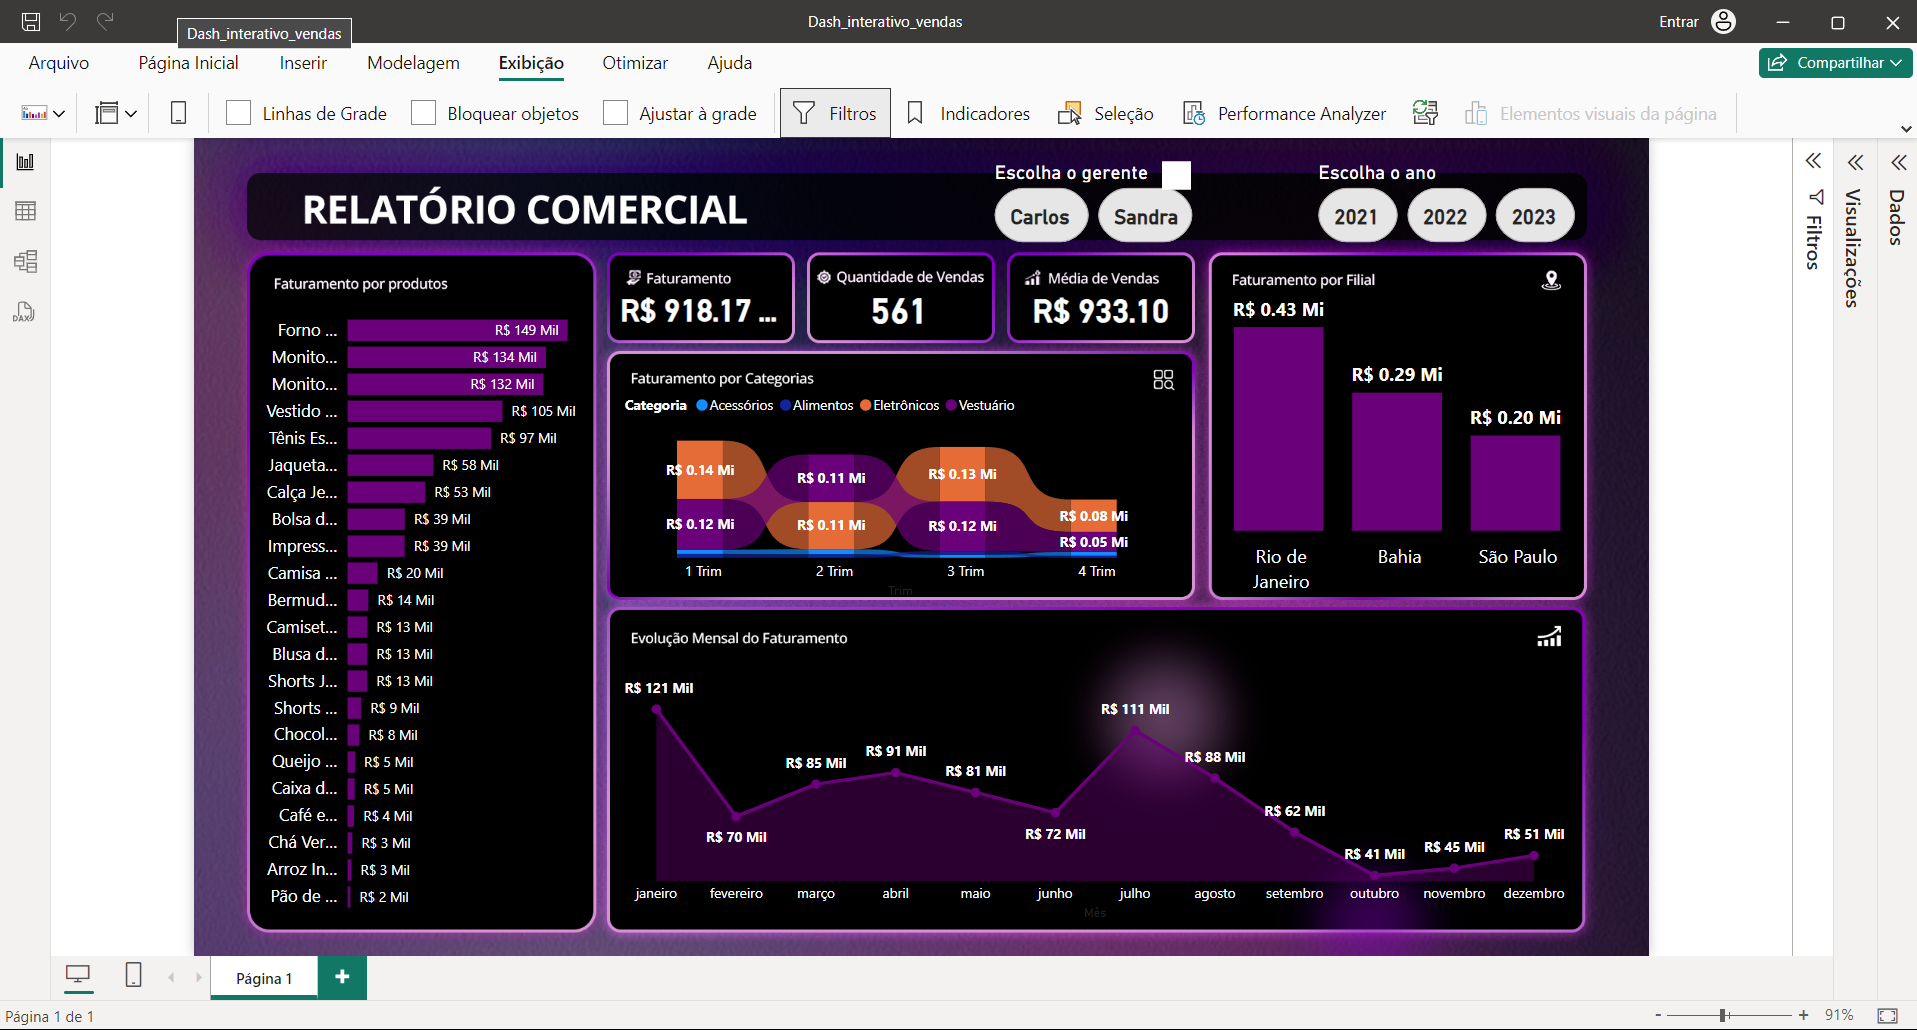

Layout of this report page (visuals, bound fields, positions):
{"tool":"powerbi","page":{"name":"Página 1","canvas":[1280,720],"ordinal":0},"visuals":[{"type":"card","fields":{"Values":["medidas.faturamento"]},"box":[364.3,122.9,160,54.3],"z":0},{"type":"card","fields":{"Values":["medidas.qtd_vendas"]},"box":[540,122.9,160,54.3],"z":1000},{"type":"card","fields":{"Values":["medidas.media_vendas"]},"box":[718.6,122.9,160,54.3],"z":2000},{"type":"columnChart","fields":{"Category":["vendas.Filial"],"Y":["medidas.faturamento"]},"box":[852.2,122.2,401.1,286.7],"z":3000},{"type":"ribbonChart","fields":{"Y":["medidas.faturamento"],"Series":["vendas.Categoria"],"Category":["Calendario.Trim"]},"box":[373.8,215,495,193.8],"z":4000},{"type":"areaChart","fields":{"Category":["Calendario.Date.Variation.Hierarquia de datas.Mês"],"Y":["medidas.faturamento"]},"box":[373.8,453.8,841.2,238.8],"z":5000},{"type":"clusteredBarChart","fields":{"Category":["vendas.Produto"],"Y":["medidas.faturamento"]},"box":[47.8,137.8,301.1,554.4],"z":6000},{"type":"advancedSlicerVisual","title":"Escolha o gerente","fields":{"Values":["vendas.Gerente"]},"box":[698.9,20,180,72.2],"z":7000},{"type":"advancedSlicerVisual","title":"Escolha o ano","fields":{"Values":["Calendario.Ano"]},"box":[983.8,20,231.2,72.5],"z":7001}]}

Visuals, with their boxes on the page's 1280x720 design canvas (x1, y1, x2, y2). These are canvas units, not pixel positions in the 1917x1030 screenshot, which may show the page scaled, cropped or inside an application window:
card - medidas.faturamento: [364, 123, 524, 177]
card - medidas.qtd_vendas: [540, 123, 700, 177]
card - medidas.media_vendas: [719, 123, 879, 177]
columnChart - vendas.Filial x medidas.faturamento: [852, 122, 1253, 409]
ribbonChart - medidas.faturamento x vendas.Categoria: [374, 215, 869, 409]
areaChart - Calendario.Date.Variation.Hierarquia de datas.Mês x medidas.faturamento: [374, 454, 1215, 693]
clusteredBarChart - vendas.Produto x medidas.faturamento: [48, 138, 349, 692]
"Escolha o gerente" advancedSlicerVisual: [699, 20, 879, 92]
"Escolha o ano" advancedSlicerVisual: [984, 20, 1215, 92]
